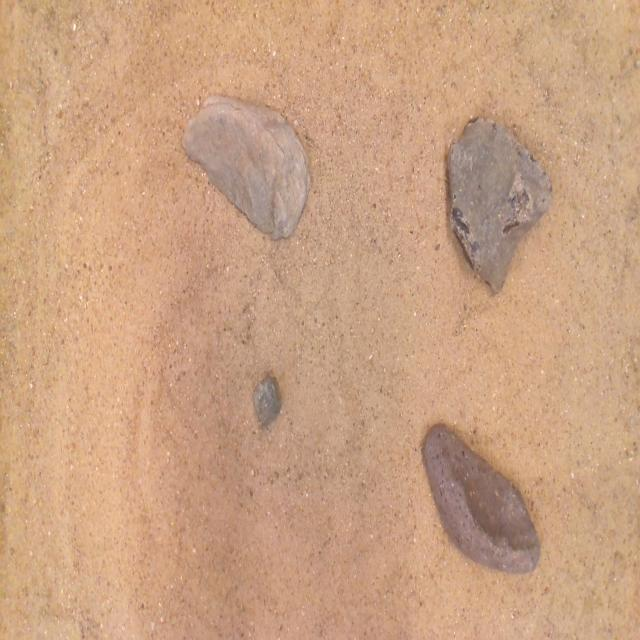rock: (182, 97, 310, 239), (448, 119, 551, 292), (423, 424, 540, 572), (252, 376, 281, 426)
